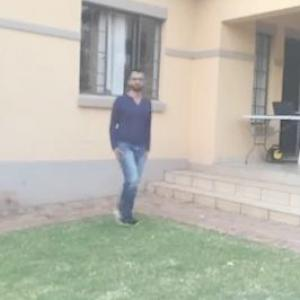follow: (99, 70, 150, 223)
